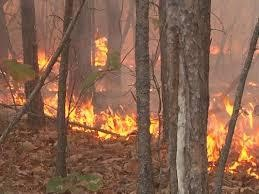fire: (207, 95, 258, 179), (92, 32, 109, 68), (147, 111, 160, 135)
